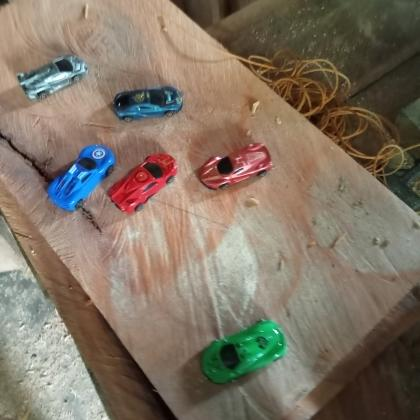Car: (198, 317, 287, 385), (45, 144, 118, 210), (107, 153, 180, 215), (199, 142, 273, 190), (16, 53, 89, 101), (111, 85, 184, 123)
